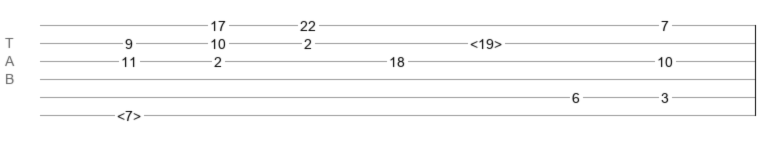10: (210, 36, 226, 46), (657, 54, 673, 64)
11: (121, 54, 137, 64)
17: (210, 18, 226, 28)
18: (389, 54, 405, 64)
2: (214, 54, 222, 64), (304, 36, 312, 46)
22: (300, 18, 316, 28)
3: (661, 90, 669, 100)
6: (572, 90, 580, 100)
7: (661, 18, 669, 28)
9: (125, 36, 133, 46)
harmonic: (470, 36, 502, 46), (117, 108, 141, 118)
